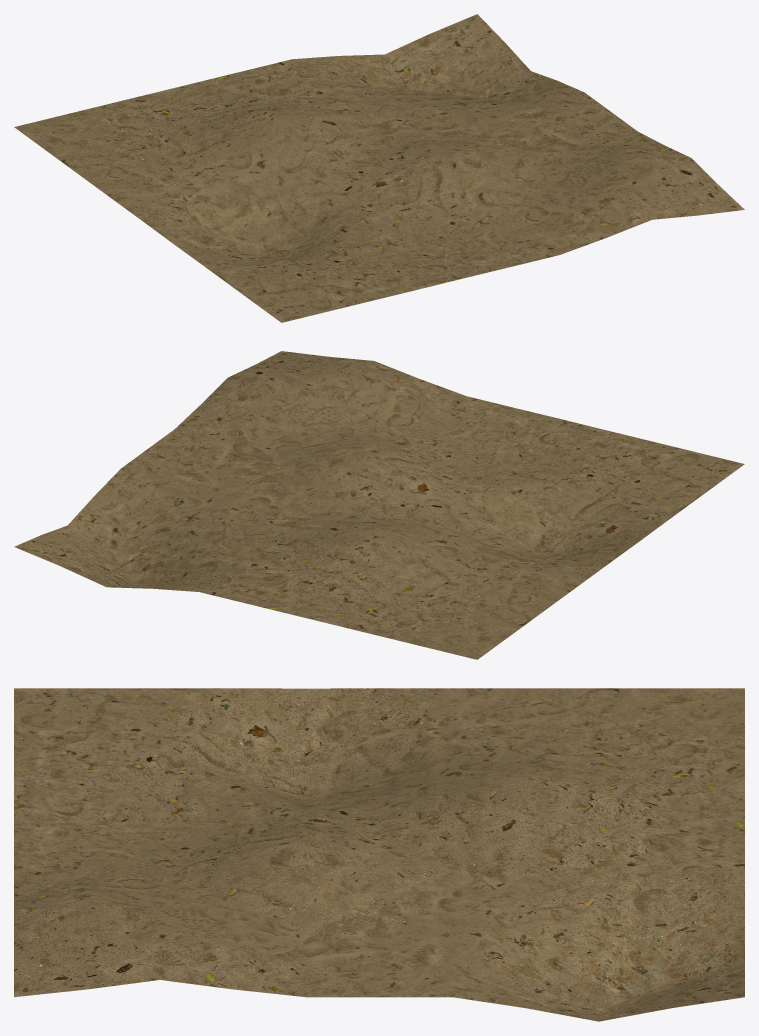
Rendered from Ground1212.fbx.
The picture shows the model from 3 angles, top to bottom: view 1: azimuth 30°, elevation 25°; view 2: azimuth 150°, elevation 25°; view 3: azimuth 270°, elevation 25°; orthographic projection. The views are drawn at different scales.
Parts seen in each view (by area): view 1: pPlane1; view 2: pPlane1; view 3: pPlane1.
Boxes of the visible parts, <box> form: pPlane1: <box>14,14,744,322</box>; pPlane1: <box>14,351,744,659</box>; pPlane1: <box>14,688,744,1021</box>.
Size of the model in its own units: 50 by 5.86 by 50.
